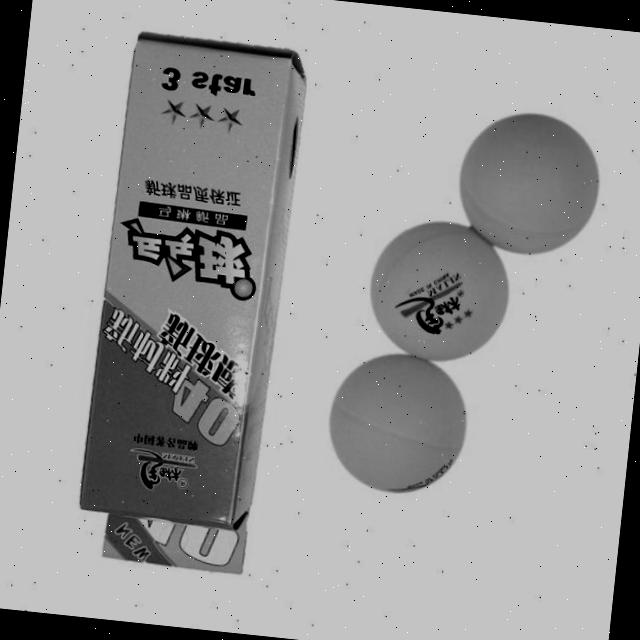ping-pong-ball: (314, 341, 478, 506), (358, 210, 520, 370), (448, 103, 608, 264)
